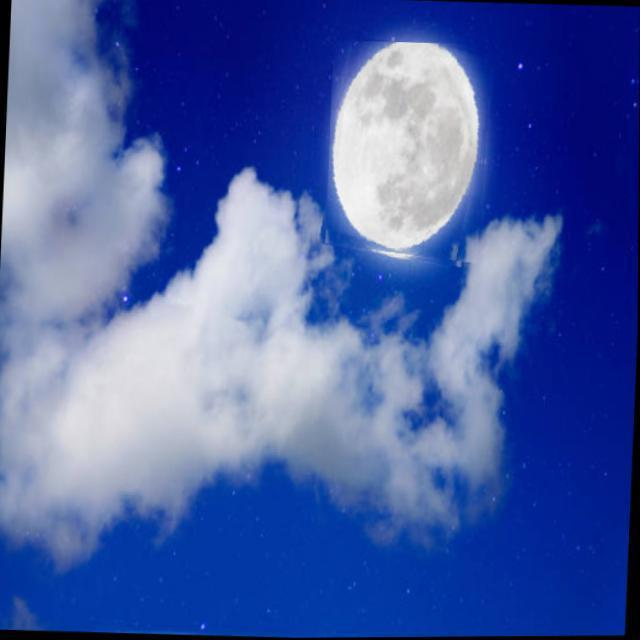moon: (325, 39, 492, 264)
